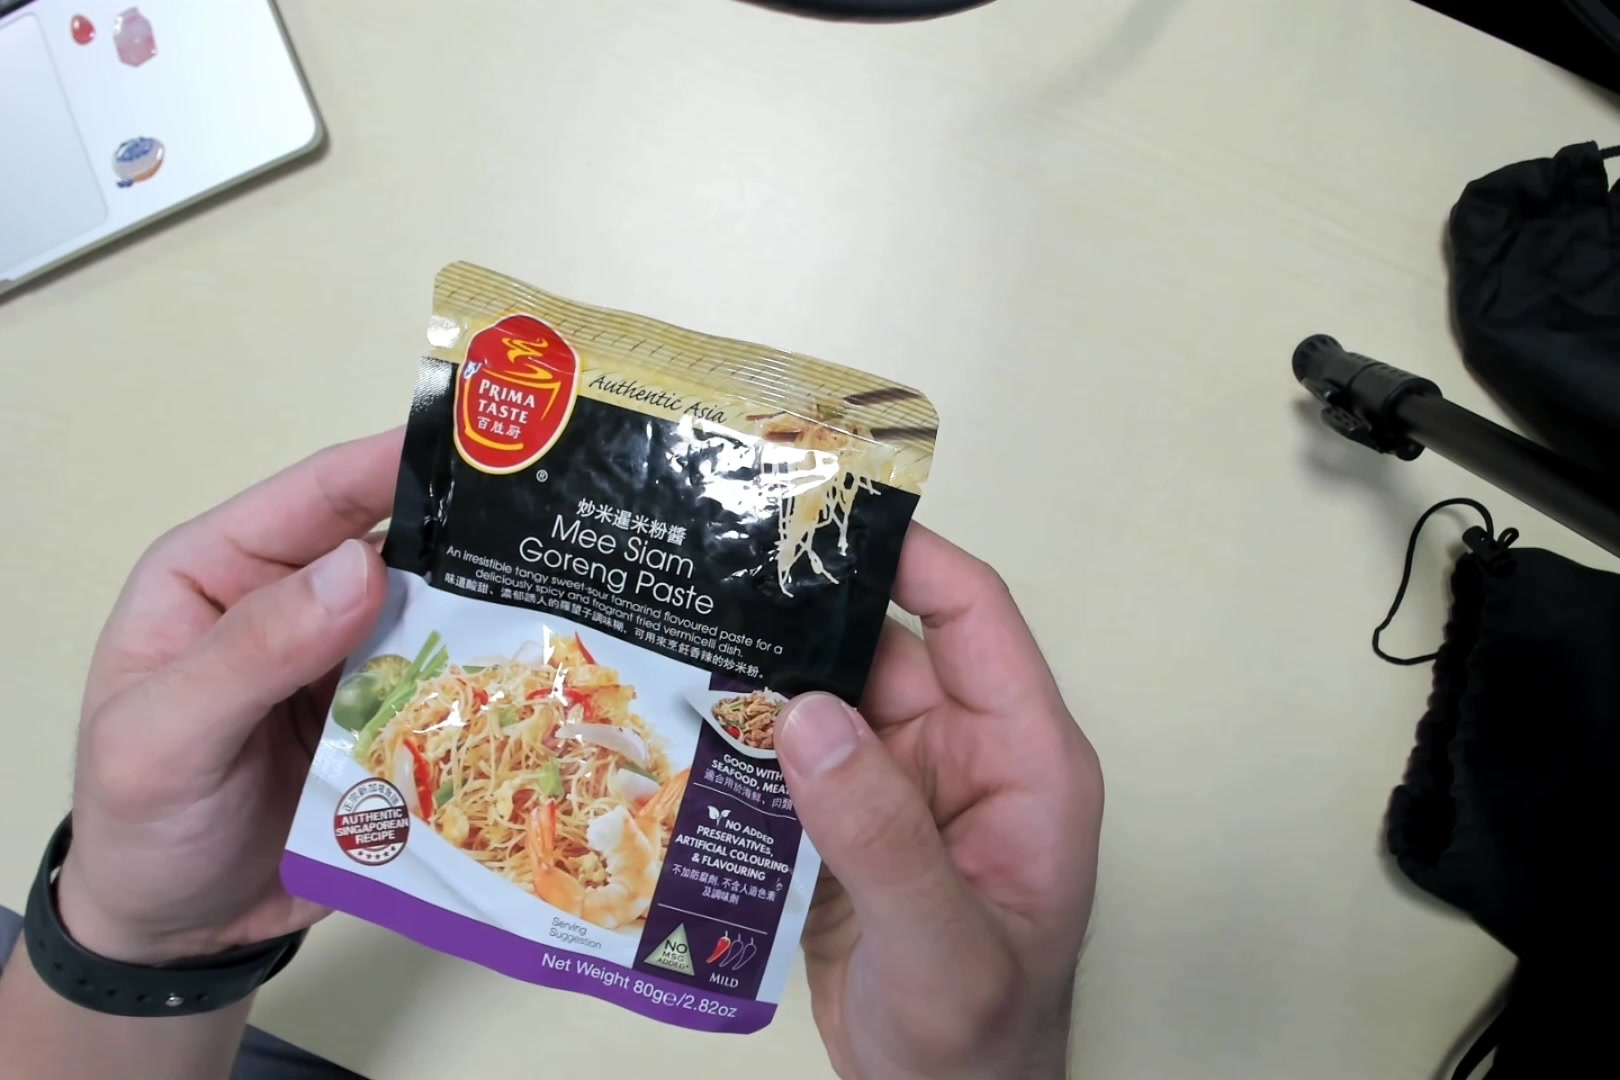CurryPastePowderSauce_0-99g_NonHalal_NonHealthy: (336, 288, 865, 1041)
